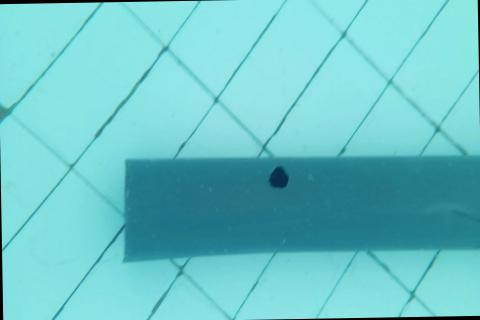kebocoran: (267, 163, 289, 191)
keretakan: (449, 207, 480, 248)
